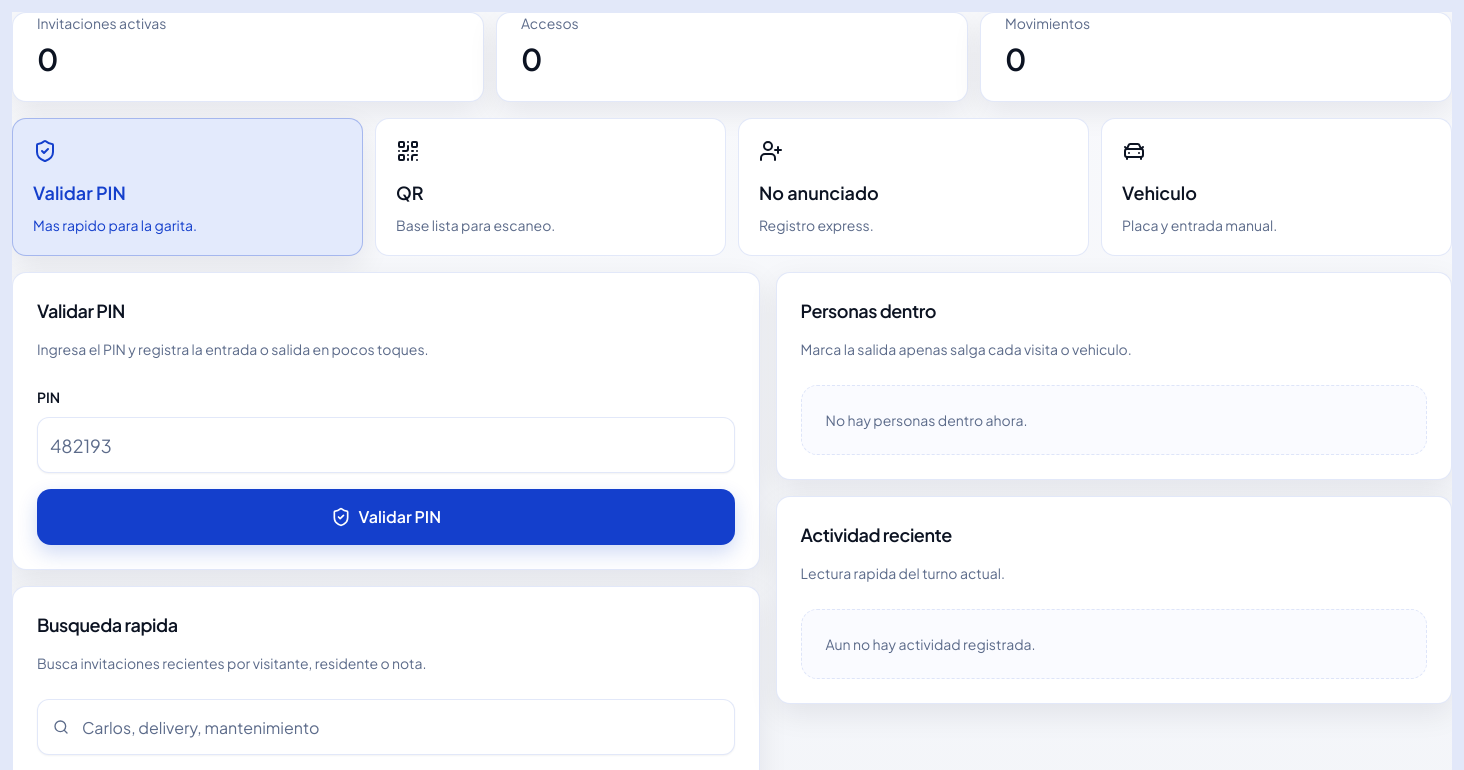
Scenario: GuardWorkspace › valida una credencial contra la API y muestra una falta de coincidencia
Type " 123456 " into the field labelled "PIN" at (386,445), box [37,417,735,473]
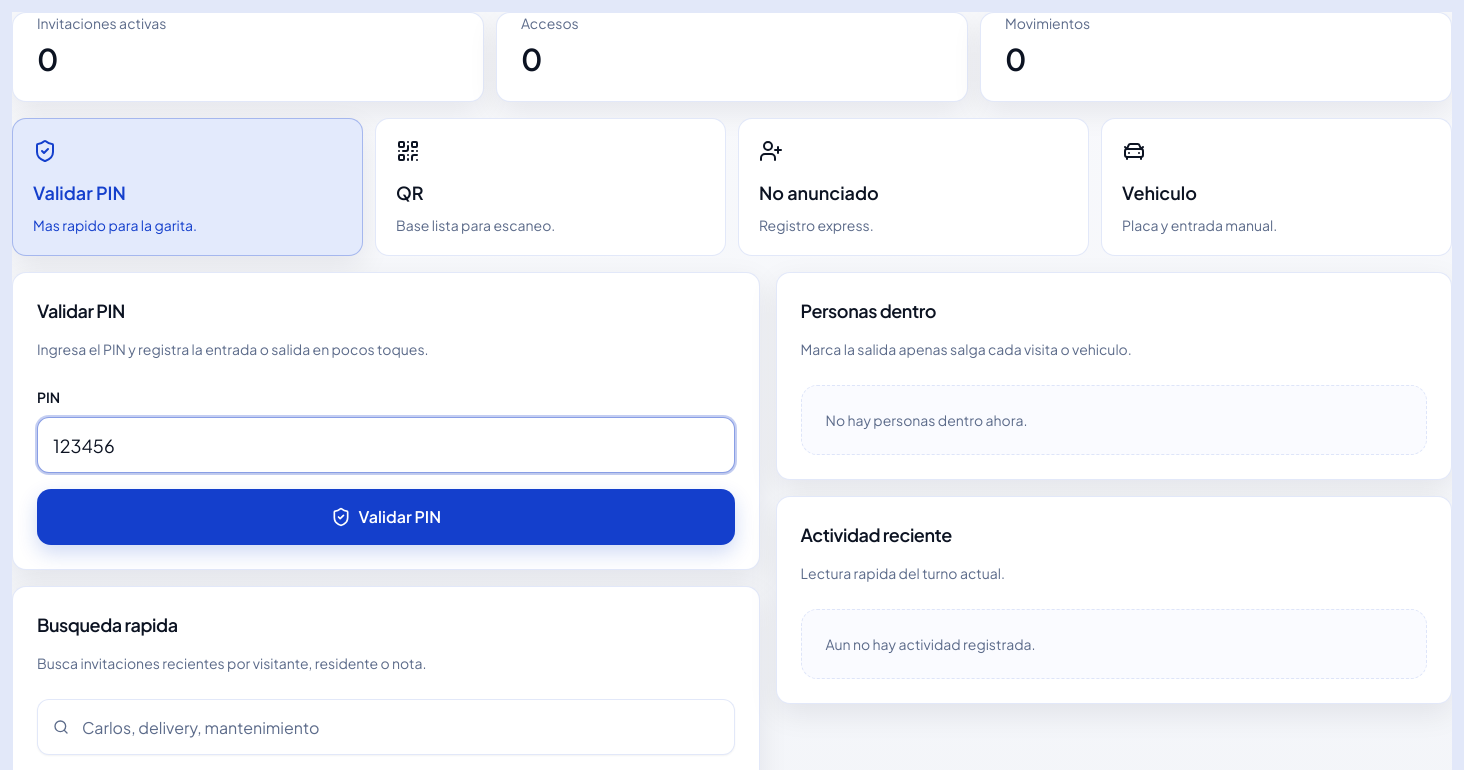
Click the button "Validar PIN" at (386,517), box [37,489,735,545]
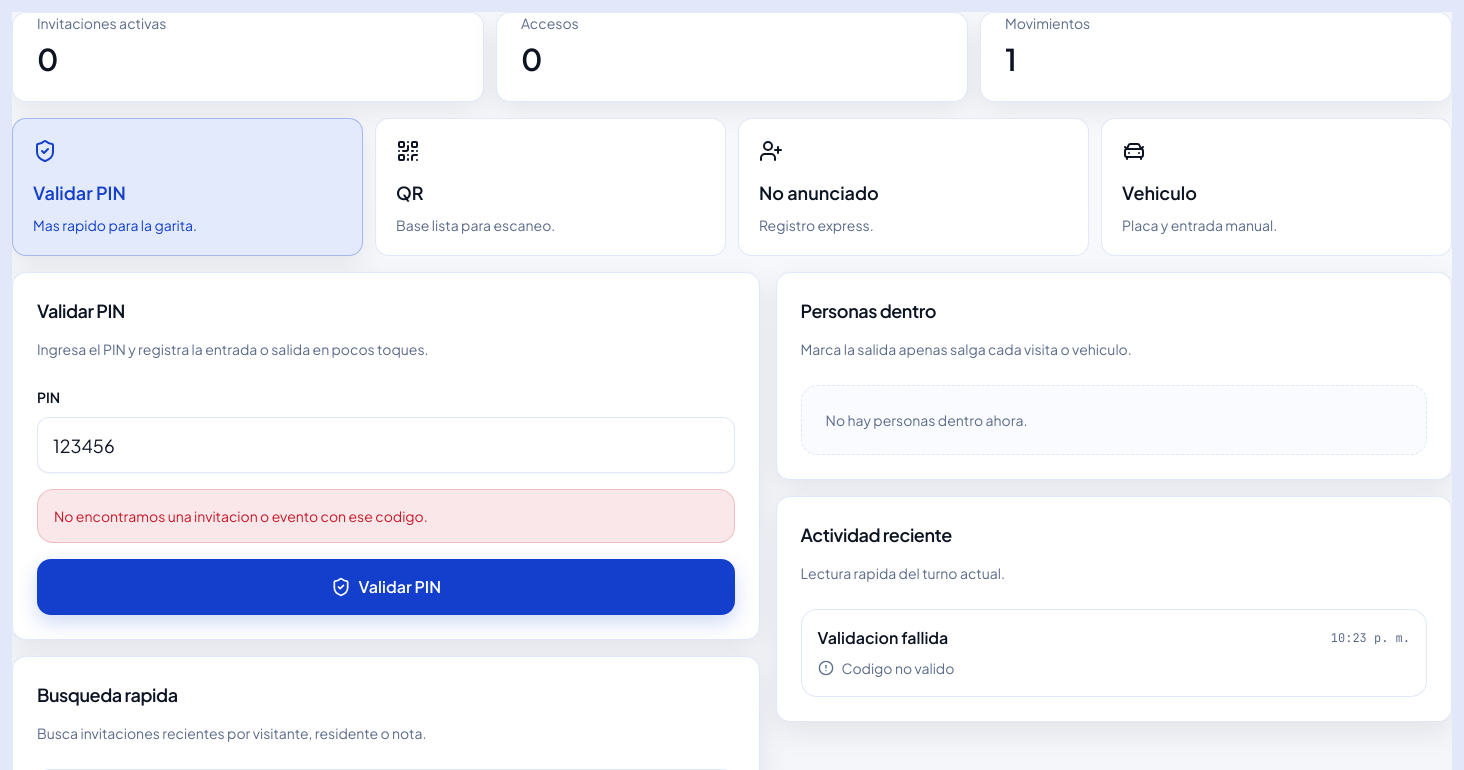
Now the text "No encontramos una invitacion o evento con ese codigo." is shown, box [37,489,735,543]
